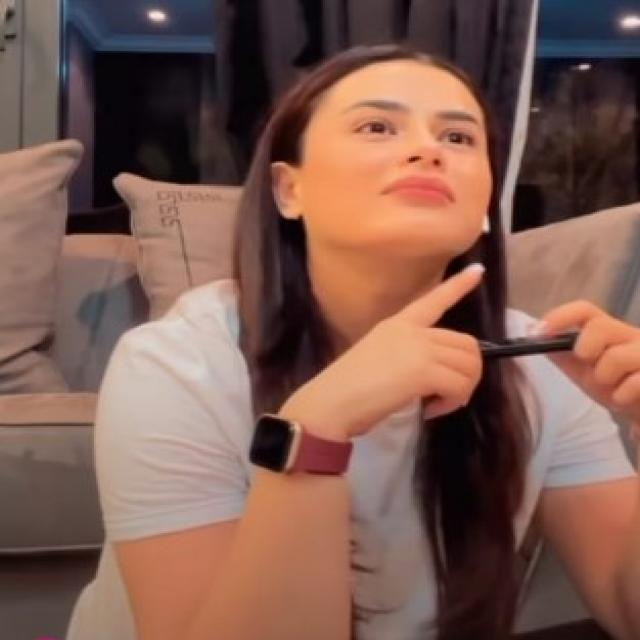Watch: (244, 411, 352, 486)
